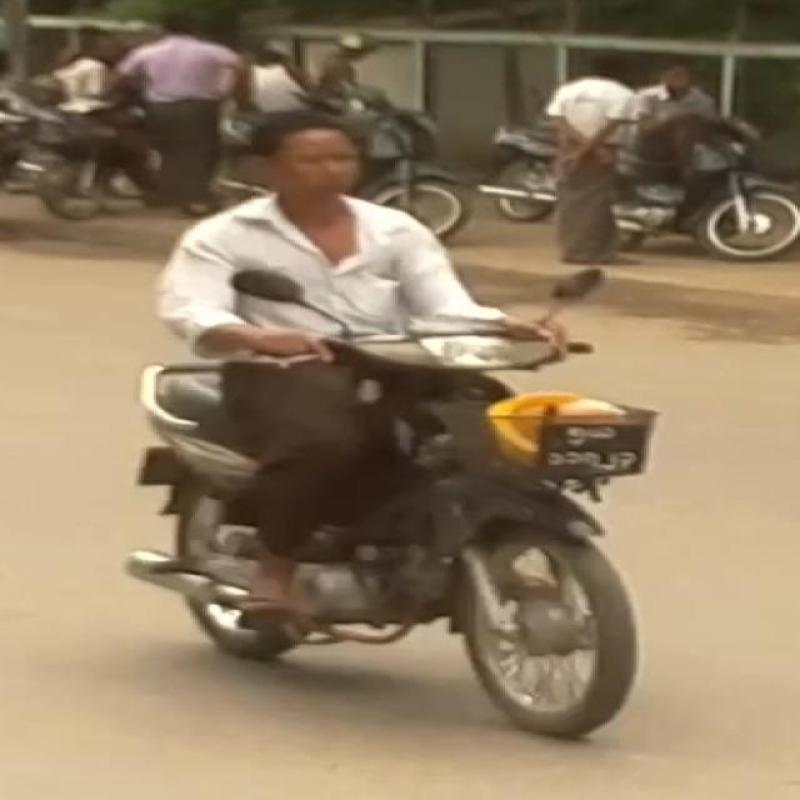nohelmet: (219, 106, 417, 208)
